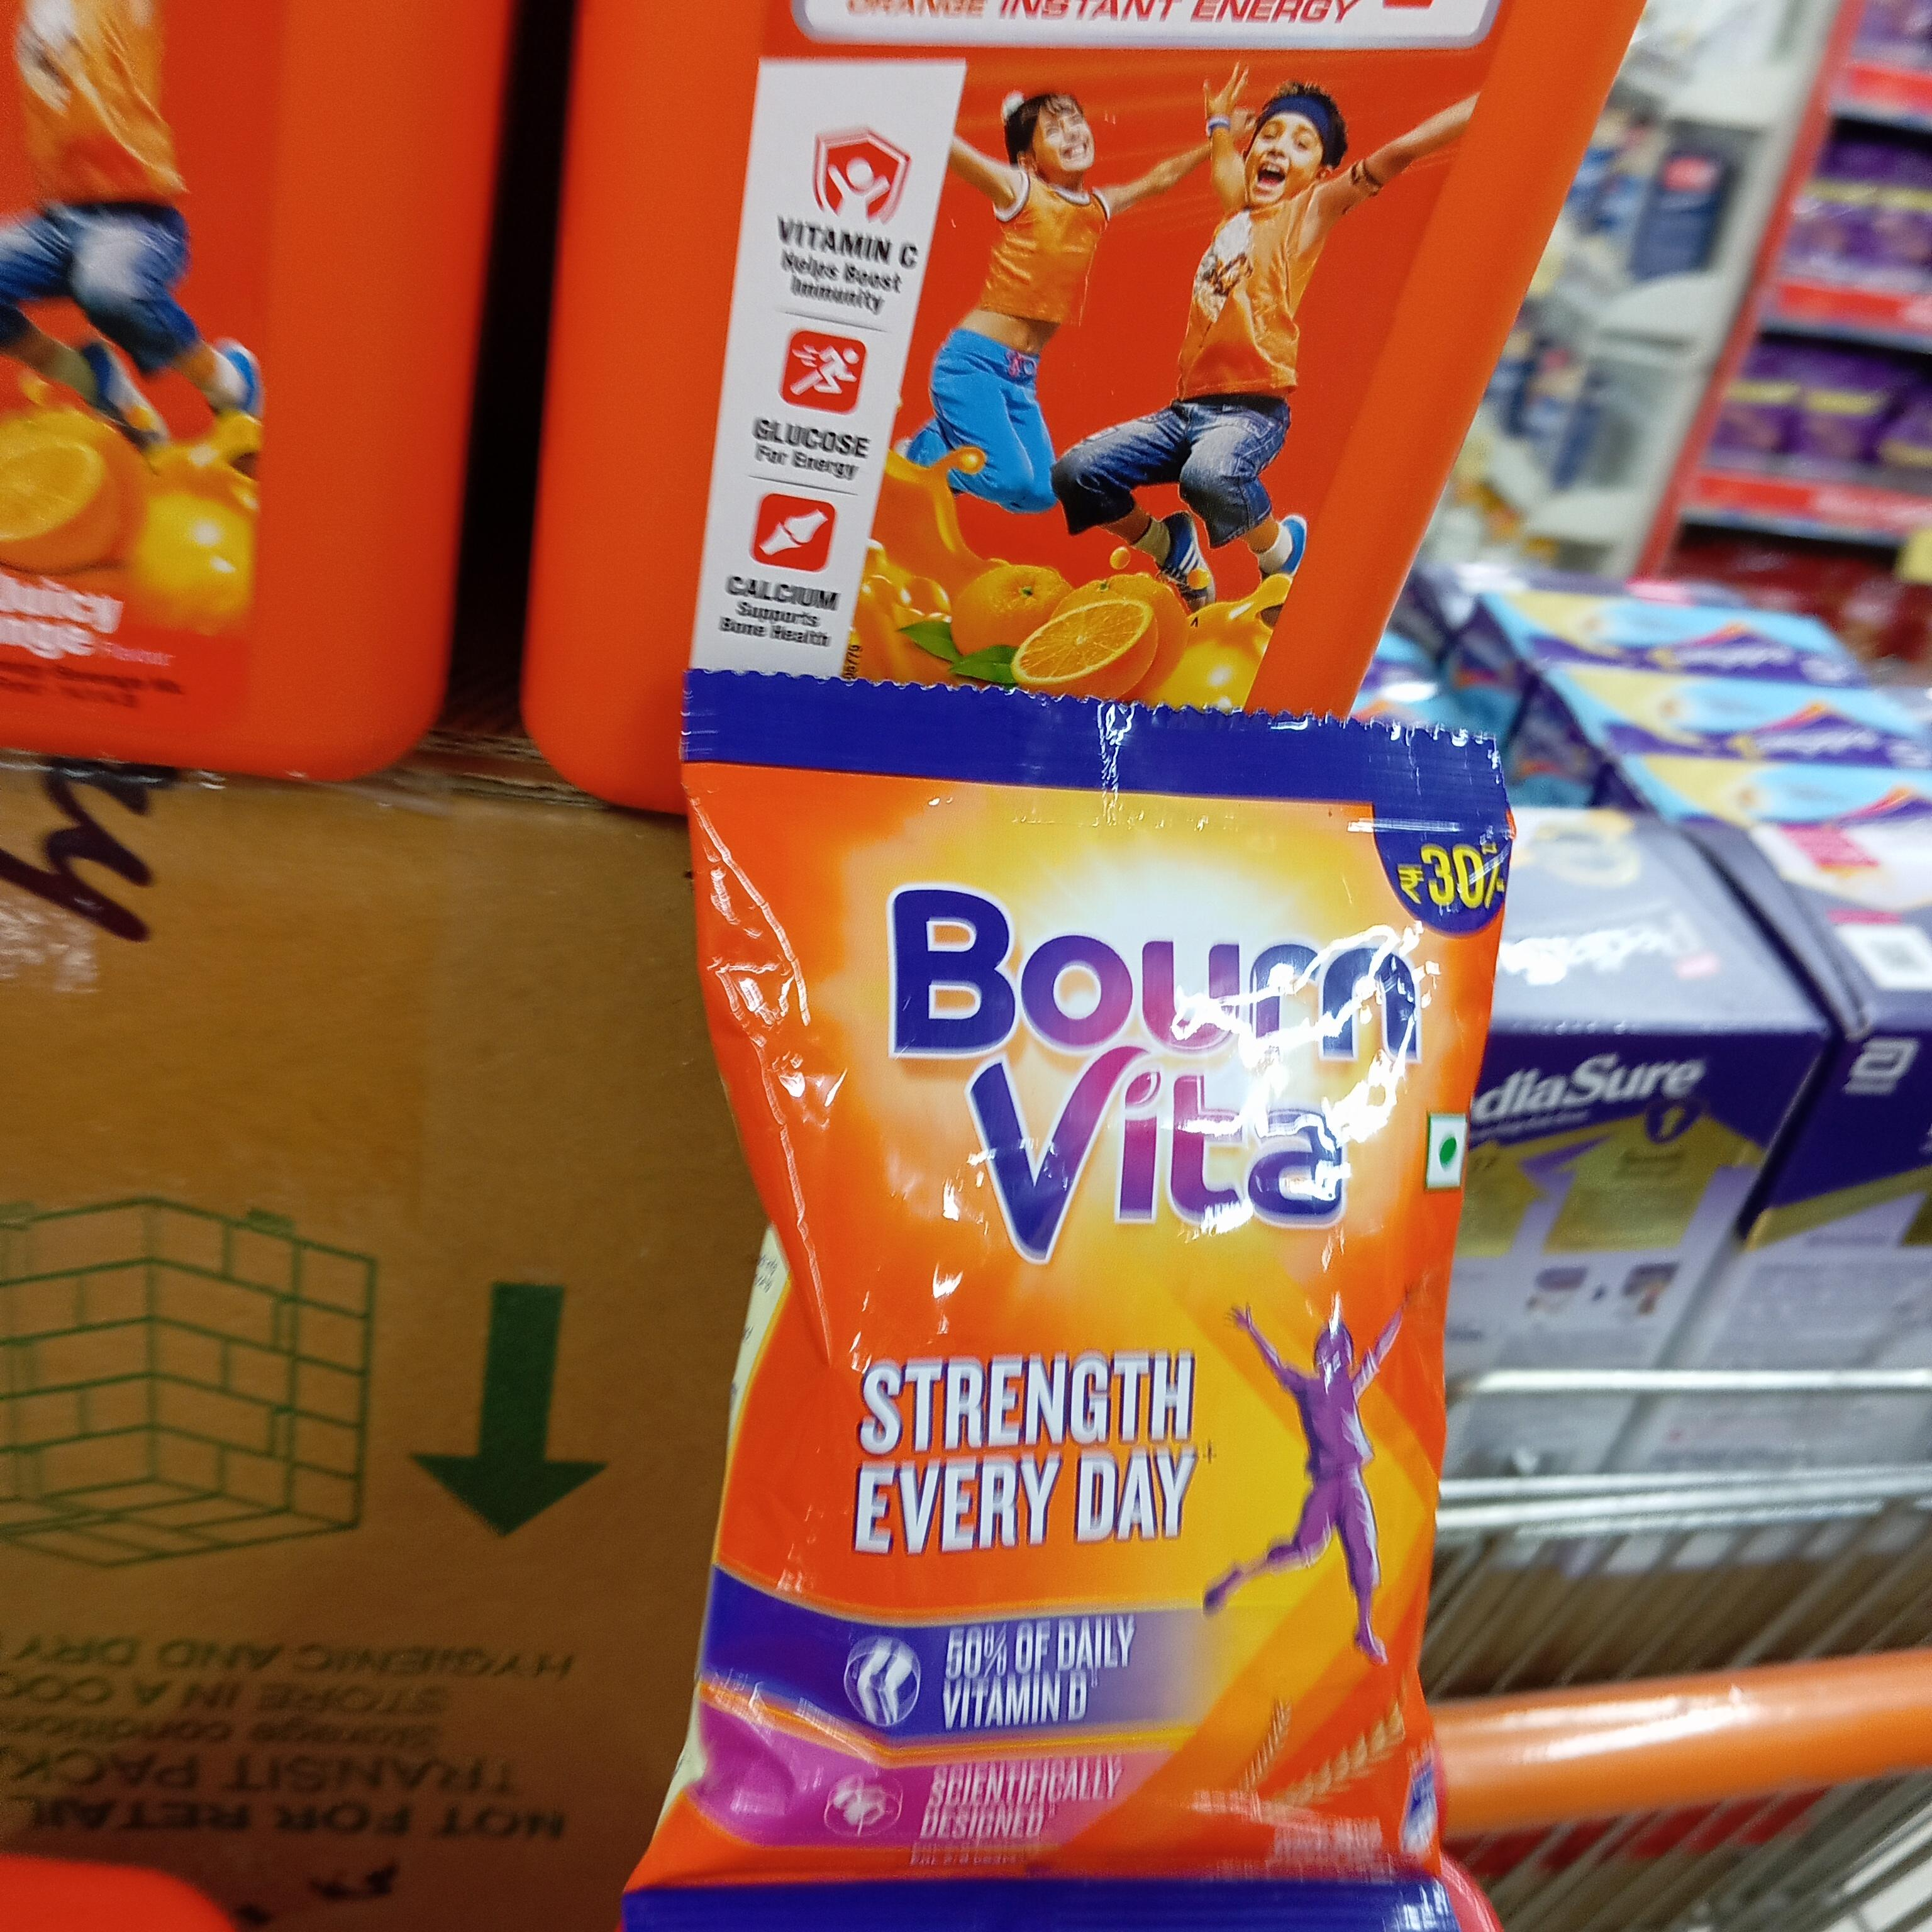BOURN_VITA_75_G_POUCH: (695, 656, 1451, 1932)
